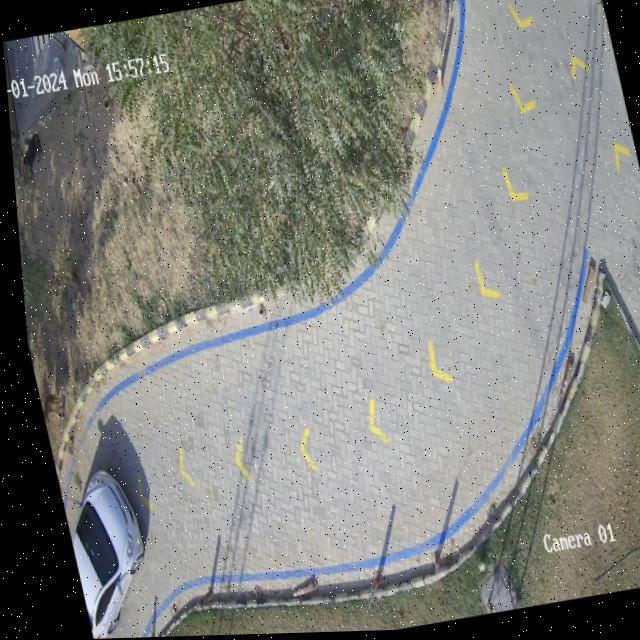car: (62, 471, 135, 639)
